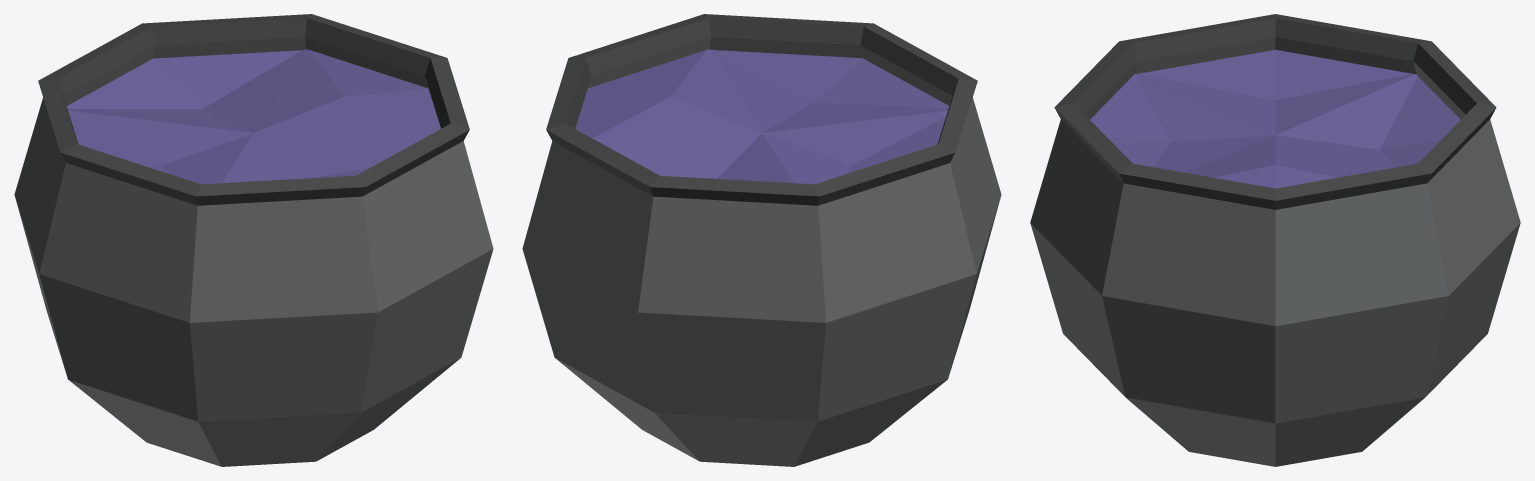
Rendered from Cauldron_1_Gray.fbx.
3 views of the same model, side by side, from view 1: azimuth 30°, elevation 25°; view 2: azimuth 150°, elevation 25°; view 3: azimuth 270°, elevation 25° (orthographic).
Parts seen in each view (by area): view 1: Cauldron_1_Gray_Part_1, Cauldron_1_Gray_Part_3, Cauldron_1_Gray_Part_2; view 2: Cauldron_1_Gray_Part_1, Cauldron_1_Gray_Part_3, Cauldron_1_Gray_Part_2; view 3: Cauldron_1_Gray_Part_1, Cauldron_1_Gray_Part_3, Cauldron_1_Gray_Part_2.
Boxes of the visible parts, <box> form: Cauldron_1_Gray_Part_1: <box>14,37,493,466</box>; Cauldron_1_Gray_Part_3: <box>66,49,440,184</box>; Cauldron_1_Gray_Part_2: <box>38,14,469,205</box>; Cauldron_1_Gray_Part_1: <box>522,37,1001,466</box>; Cauldron_1_Gray_Part_3: <box>575,49,949,184</box>; Cauldron_1_Gray_Part_2: <box>546,14,977,205</box>; Cauldron_1_Gray_Part_1: <box>1030,37,1520,466</box>; Cauldron_1_Gray_Part_3: <box>1090,49,1460,188</box>; Cauldron_1_Gray_Part_2: <box>1054,14,1496,209</box>.
Size of the model in its own units: 100 by 70.12 by 100.
